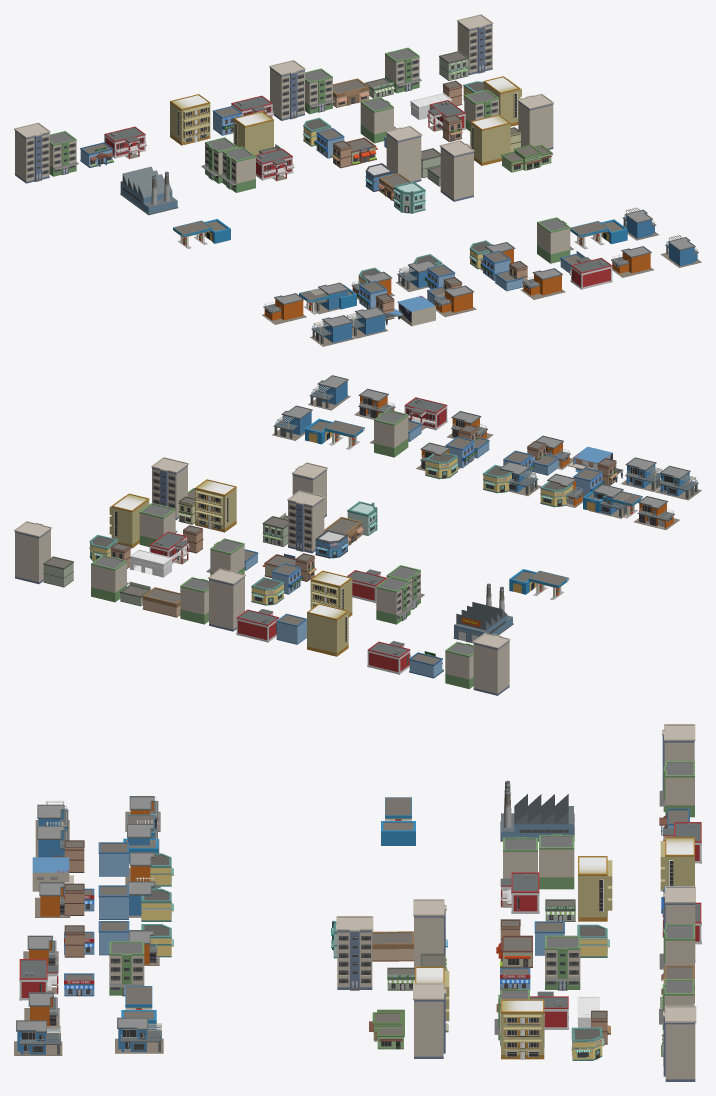
The model's file is Buidlings.fbx.
The picture shows the model from 3 angles, top to bottom: view 1: azimuth 30°, elevation 25°; view 2: azimuth 150°, elevation 25°; view 3: azimuth 270°, elevation 25°; orthographic projection. The views are drawn at different scales.
Parts seen in each view (by area): view 1: Building_Sky_small_color02__2_; view 2: Building_Sky_small_color02__2_; view 3: Building_Sky_small_color02__2_.
Part boxes in pixels (x1,y1,x2,y2): Building_Sky_small_color02__2_: [14, 14, 701, 346]; Building_Sky_small_color02__2_: [14, 375, 701, 695]; Building_Sky_small_color02__2_: [14, 724, 701, 1081].
Size of the model in its own units: 25980 by 2502 by 25397.
